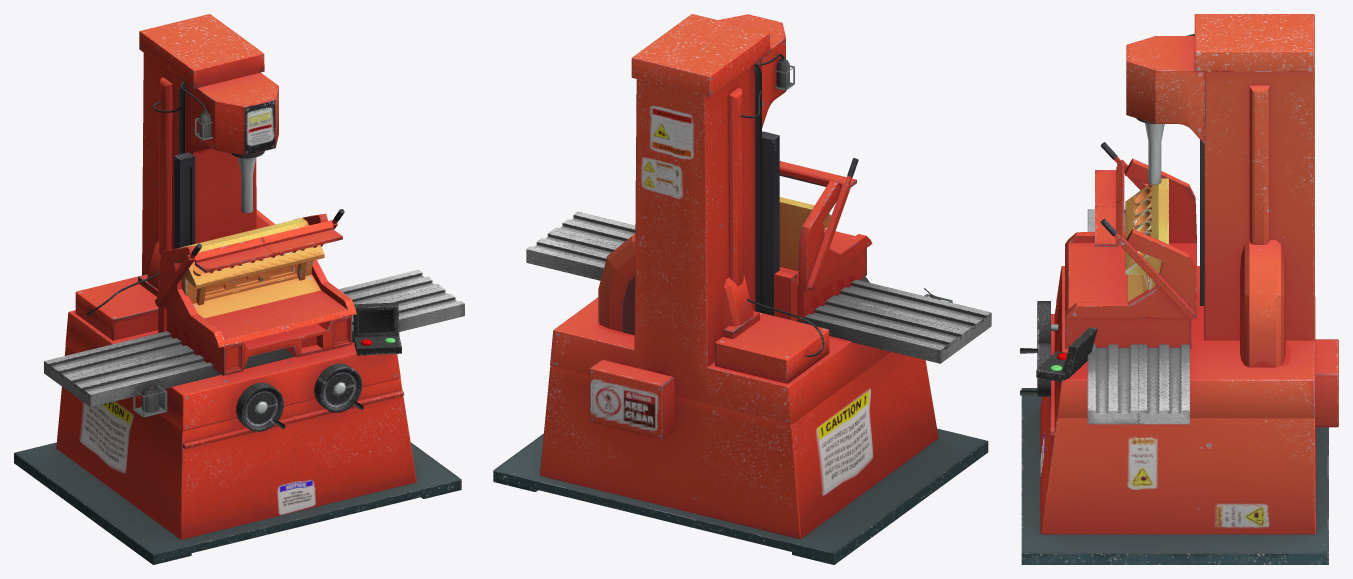
The model's file is CNC-001.glb.
3 renders of one model, left to right at view 1: azimuth 30°, elevation 25°; view 2: azimuth 150°, elevation 25°; view 3: azimuth 270°, elevation 25°, orthographic. The views are drawn at different scales.
Visible parts, largest first — view 1: Cube.002; view 2: Cube.002; view 3: Cube.002.
Part boxes in pixels (<box>): Cube.002: <box>14,14,464,564</box>; Cube.002: <box>493,14,991,564</box>; Cube.002: <box>1020,14,1338,564</box>.
Size of the model in its own units: 5.84 by 6.08 by 3.91.
Materials: 1 (1 with a texture image).
